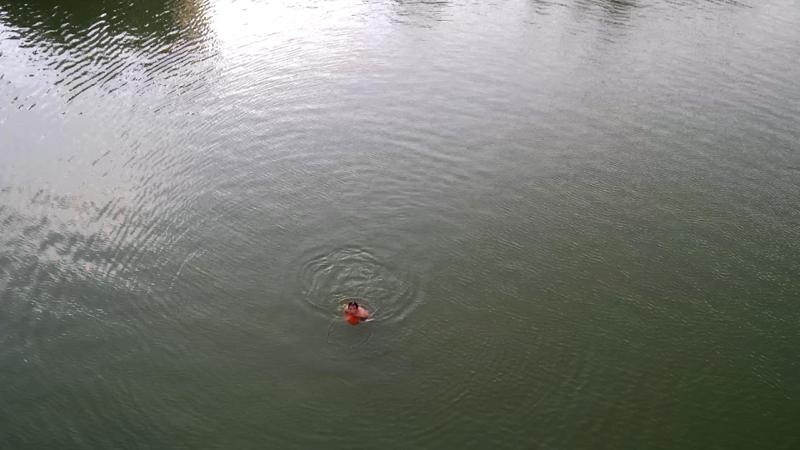swimmers: (340, 297, 370, 327)
